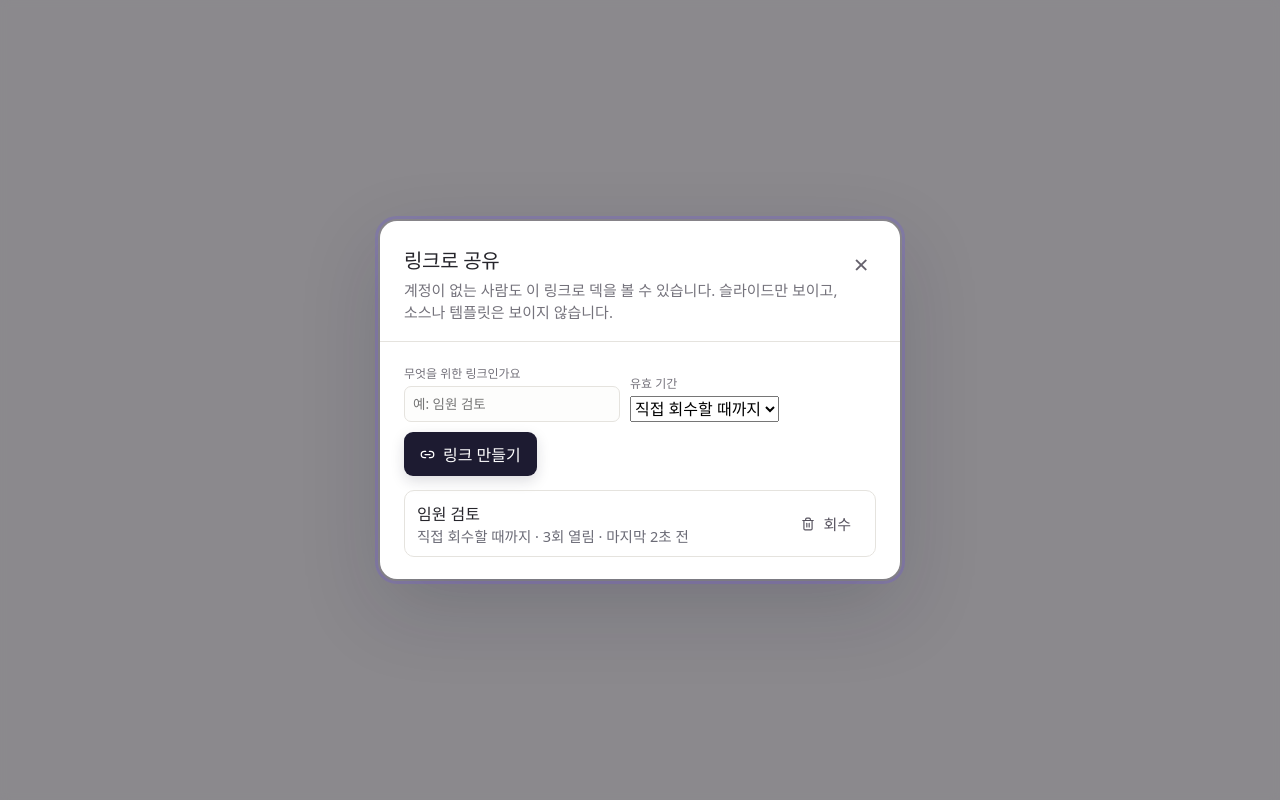
Scenario: links that open a deck for someone with no account › asks before closing a link, and marks it closed without losing the row
Expected: the text "임원 검토" is shown, [417,503,480,525]
Click the button "회수".
click(826, 524)  # box [789,505,863,542]
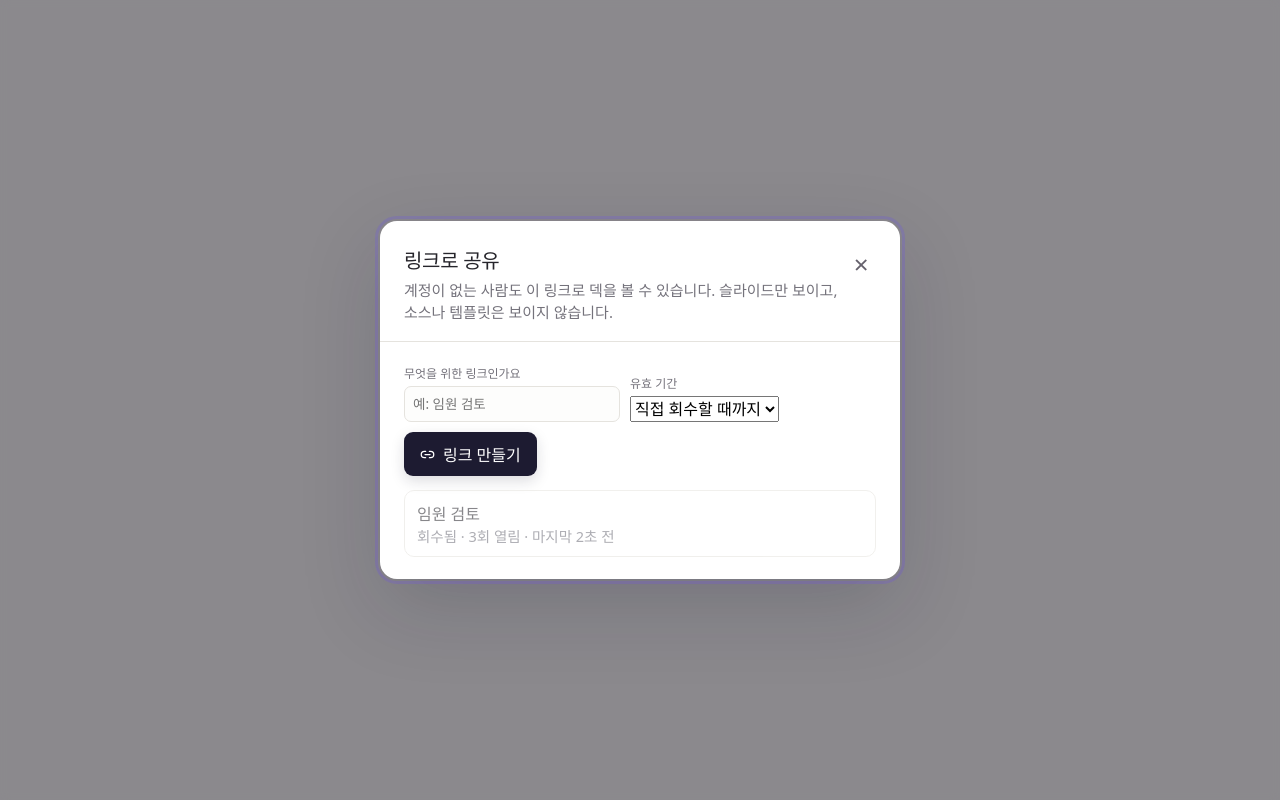
Expected: the text "임원 검토" is shown, [417,503,480,525]
Result: the text "회수됨 · 3회 열림 · 마지막 2초 전" is shown at [417,525,614,546]
